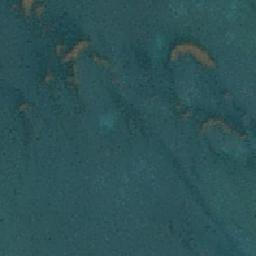debris: (166, 40, 217, 72), (55, 39, 85, 61), (15, 1, 47, 21), (198, 116, 228, 136)
